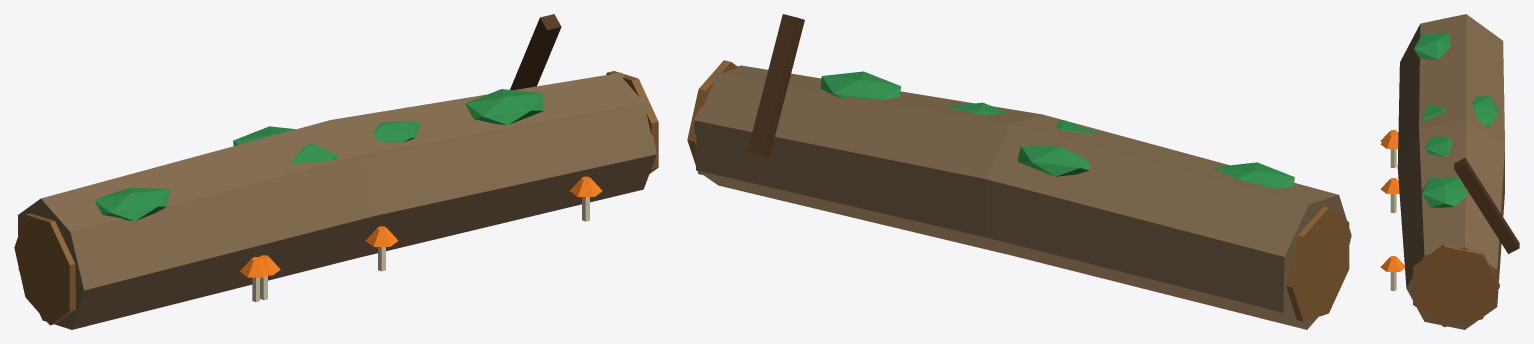
The model's file is Tronco caido.fbx.
3 renders of one model, left to right at view 1: azimuth 30°, elevation 25°; view 2: azimuth 150°, elevation 25°; view 3: azimuth 270°, elevation 25°, orthographic. The views are drawn at different scales.
Parts seen in each view (by area): view 1: Tronco caido; view 2: Tronco caido; view 3: Tronco caido.
Boxes of the visible parts, x1,y1,x2,y2 form: Tronco caido: (14,14,658,329); Tronco caido: (687,14,1351,329); Tronco caido: (1380,14,1519,329).
Size of the model in its own units: 2.45 by 0.7258 by 0.641.
